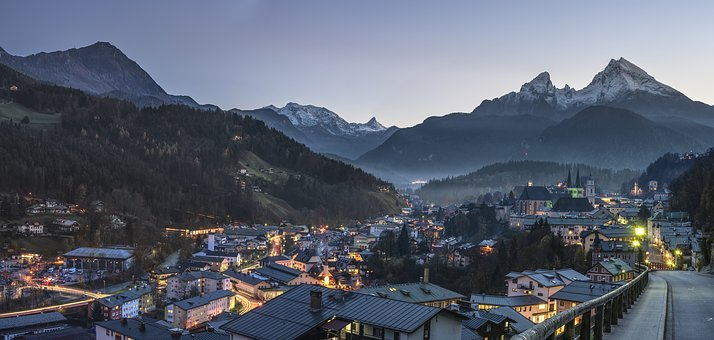mountain: (3, 45, 381, 218), (358, 58, 714, 164)
sky: (6, 2, 714, 87)
vilage: (23, 203, 685, 334)
